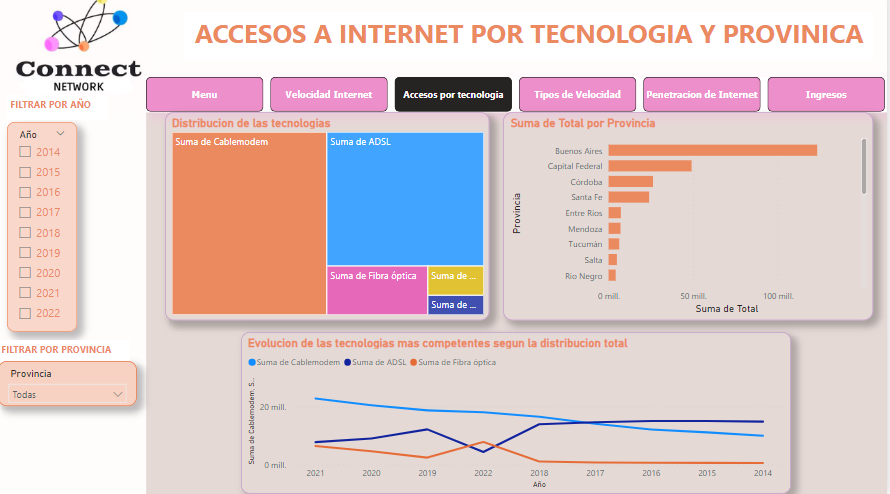

What the dashboard file says about the page in this screenshot:
{"tool":"powerbi","page":{"name":"Accesos por tecnologia","canvas":[1280,720],"ordinal":2},"visuals":[{"type":"pageNavigator","box":[212.8,119.7,1067.2,50.8],"z":0},{"type":"clusteredBarChart","fields":{"Category":["acceso_tecn_prov.Provincia"],"Y":["Sum(acceso_tecn_prov.Total)"]},"box":[727.2,169.9,532.8,299.5],"z":1000},{"type":"treemap","title":"Distribucion de las tecnologias","fields":{"Values":["Sum(acceso_tecn_prov.ADSL)","Sum(acceso_tecn_prov.Cablemodem)","Sum(acceso_tecn_prov.Fibra óptica)","Sum(acceso_tecn_prov.Wireless)","Sum(acceso_tecn_prov.Otros)"]},"box":[240.5,169.9,466.6,299.5],"z":2000},{"type":"slicer","fields":{"Values":["acceso_tecn_prov.Año"]},"box":[13,184.3,100.8,302.4],"z":3000},{"type":"lineChart","title":"Evolucion de las tecnologias mas competentes segun la distribucion total","fields":{"Y":["Sum(acceso_tecn_prov.Cablemodem)","Sum(acceso_tecn_prov.ADSL)","Sum(acceso_tecn_prov.Fibra óptica)"],"Category":["acceso_tecn_prov.Año"]},"box":[349.9,486.7,792,233.3],"z":4000},{"type":"textbox","box":[13,145.4,145.4,36],"z":5000},{"type":"textbox","box":[267.8,25.9,992.2,67.7],"z":6000},{"type":"slicer","fields":{"Values":["acceso_tecn_prov.Provincia"]},"box":[0,528.5,200.2,64.8],"z":7000},{"type":"textbox","box":[0,498.2,190.1,30.2],"z":8000}]}

Visuals, with their boxes in screenshot pixels (x1, y1, x2, y2), scaled from the page's 1280x720 canvas onto the 890x494 screenshot:
pageNavigator: [148, 82, 889, 117]
clusteredBarChart - acceso_tecn_prov.Provincia x Sum(acceso_tecn_prov.Total): [506, 117, 876, 322]
"Distribucion de las tecnologias" treemap: [167, 117, 492, 322]
slicer - acceso_tecn_prov.Año: [9, 126, 79, 334]
"Evolucion de las tecnologias mas competentes segun la distribucion total" lineChart: [243, 334, 794, 493]
textbox: [9, 100, 110, 124]
textbox: [186, 18, 876, 64]
slicer - acceso_tecn_prov.Provincia: [0, 363, 139, 407]
textbox: [0, 342, 132, 363]
